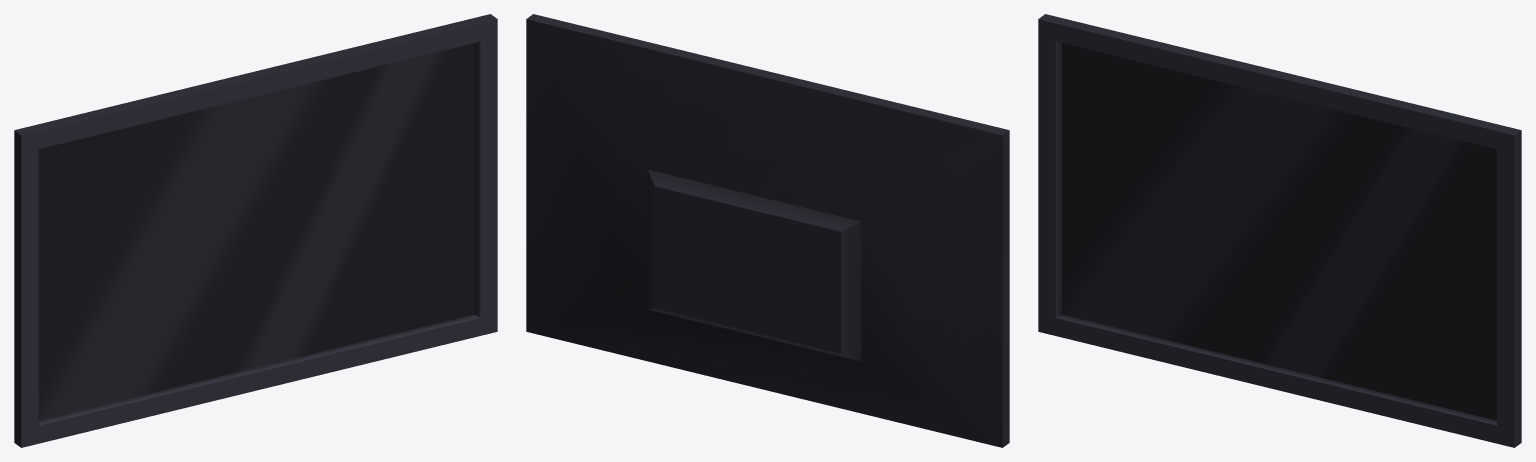
File: Flat screen tv.fbx
3 renders of one model, left to right at view 1: azimuth 30°, elevation 25°; view 2: azimuth 150°, elevation 25°; view 3: azimuth 330°, elevation 25°, orthographic.
Parts seen in each view (by area): view 1: Tv Screen; view 2: Tv Screen; view 3: Tv Screen.
Part boxes in pixels (x1,y1,x2,y2): Tv Screen: (14,14,497,447); Tv Screen: (526,14,1009,447); Tv Screen: (1038,14,1521,447).
Bounding box in the file's own units: 2.16 × 1.36 × 0.1834.
Materials: 1 (1 with a texture image).
